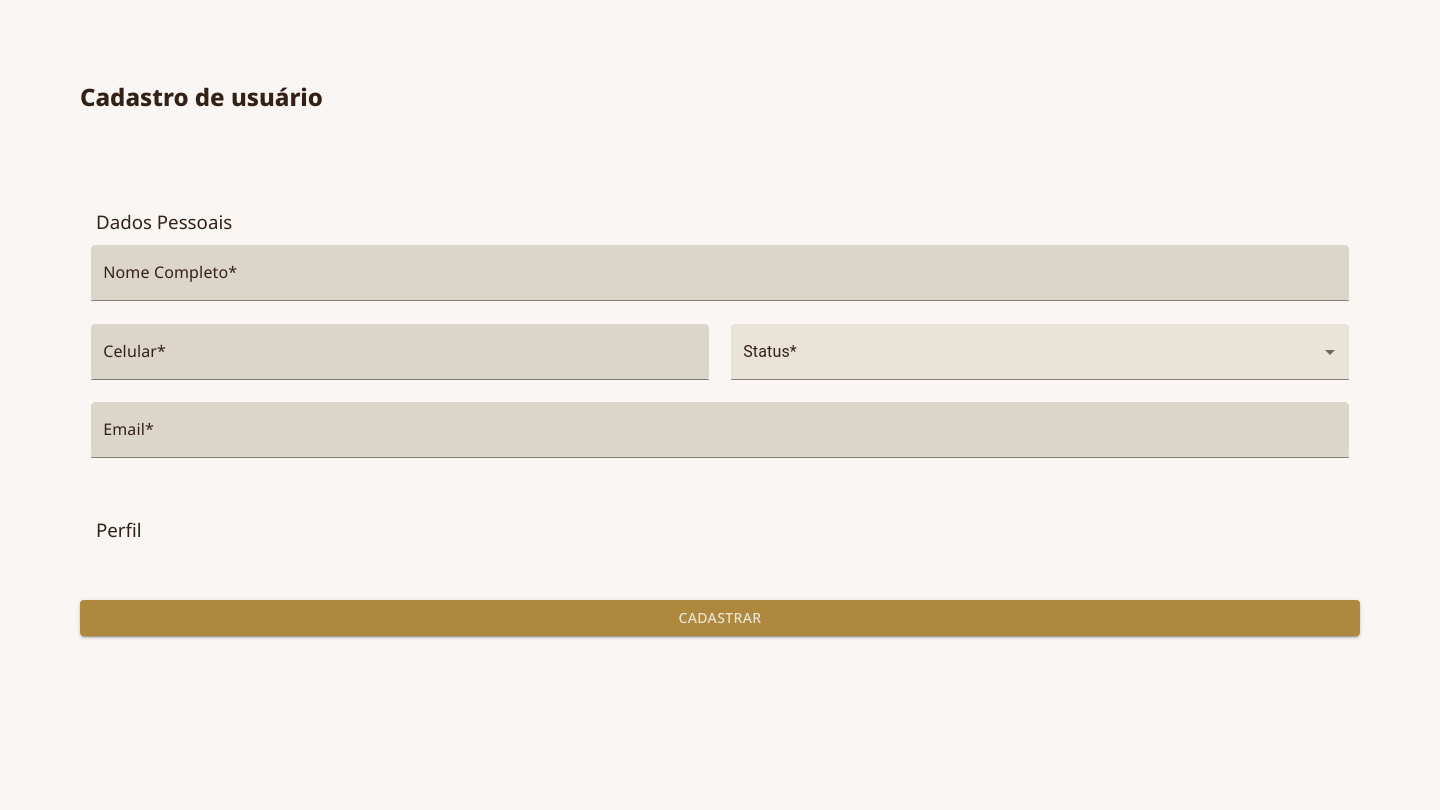
UserCreatePage › validates phone number format
The image size is (1440, 810).
Type "123" into the field labelled "Celular*" at {"x": 400, "y": 352}, box [91,324,709,380]
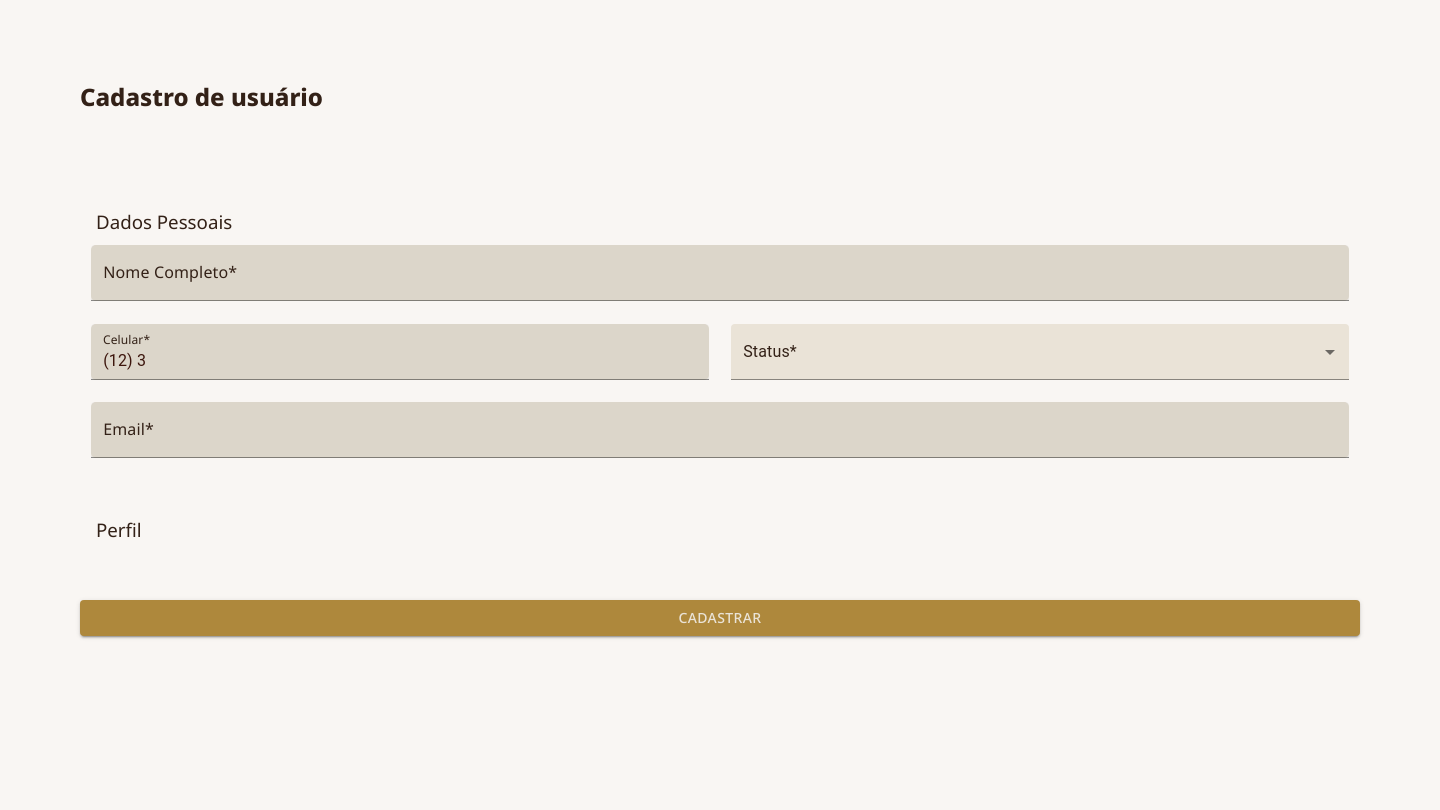
Click the button "Cadastrar" at {"x": 720, "y": 618}, box [80,600,1360,636]
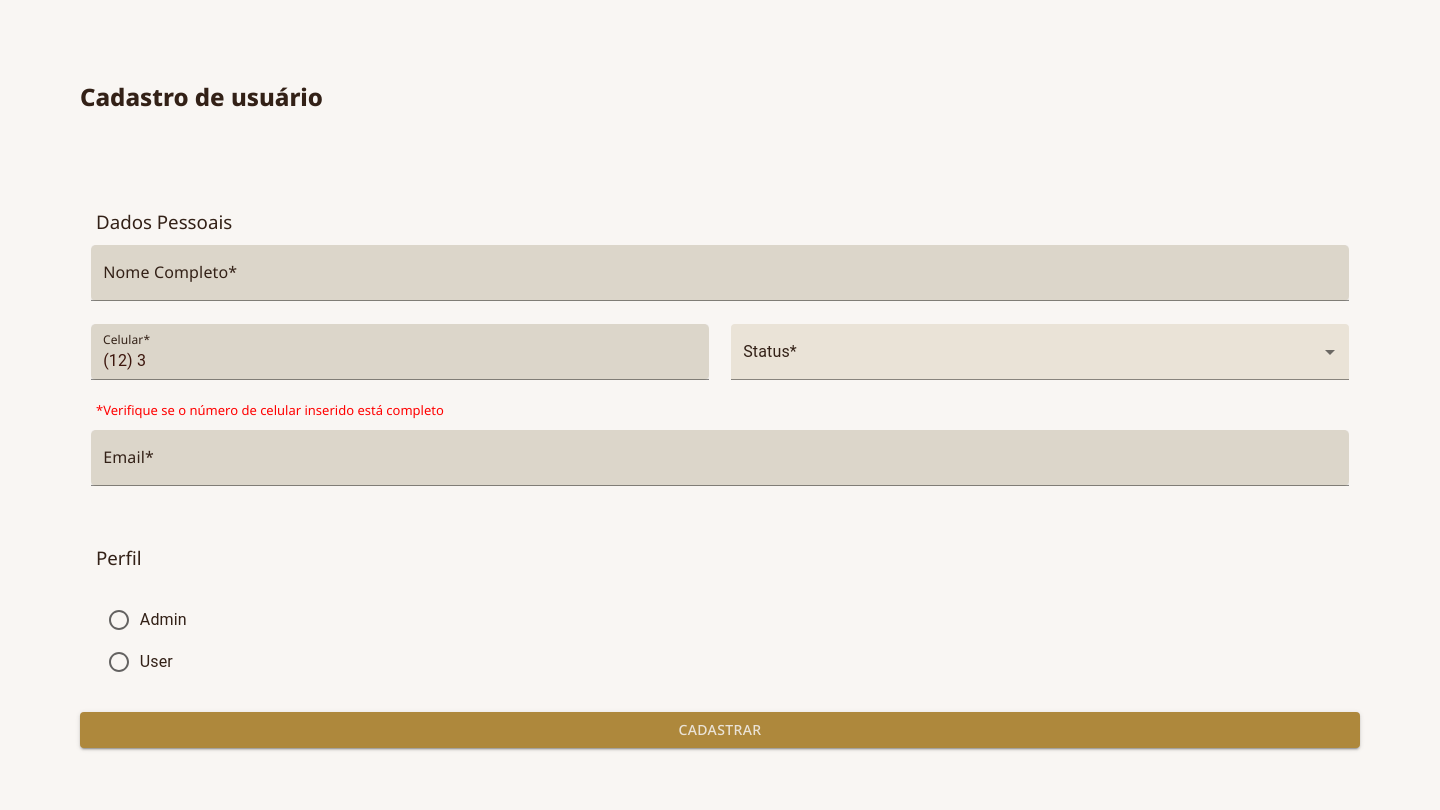
Expected: the text "*Verifique se o número de celular inserido está completo" is shown, [96,401,444,419]
